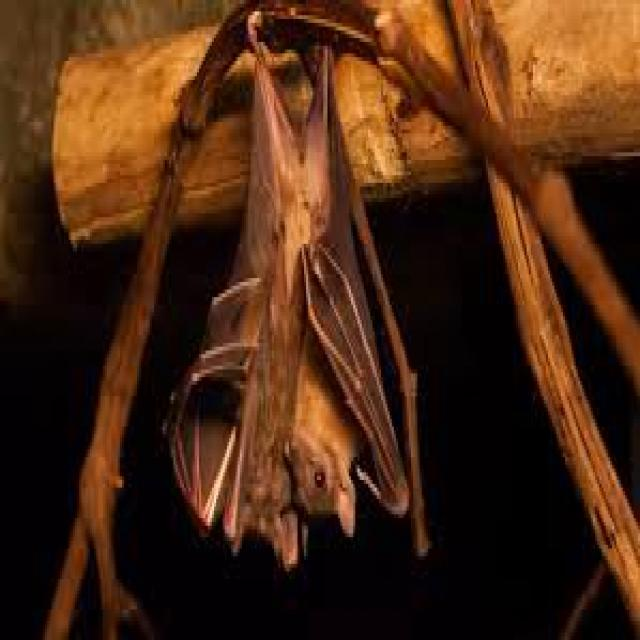bat: (173, 11, 407, 564)
